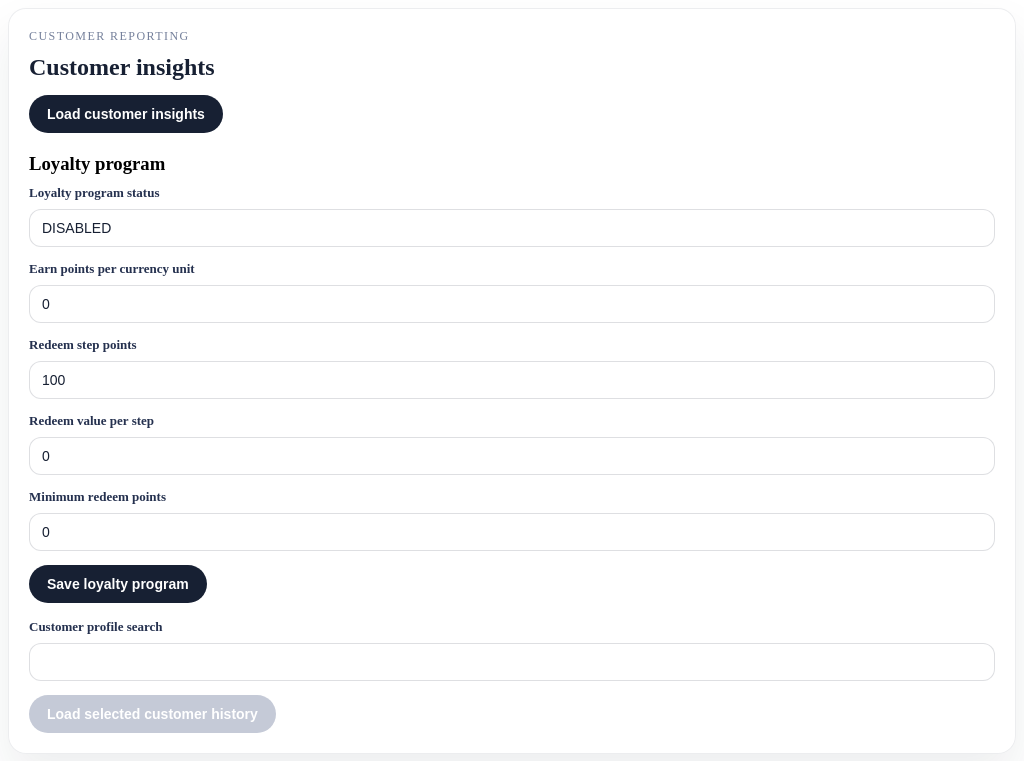
Scenario: owner customer insights section › assigns a default price tier to the selected customer profile
Click the button "Load customer insights" at (126, 114), box [29,95,223,133]
(page scrolled)
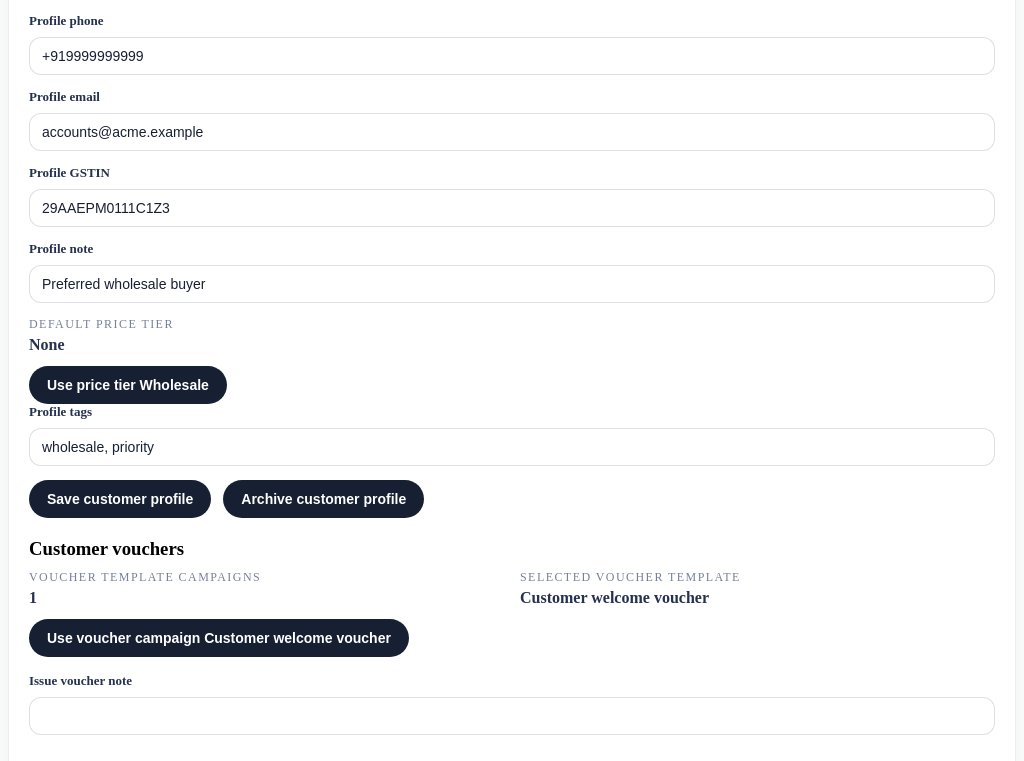
Click the button "Use price tier Wholesale" at (128, 385), box [29,366,227,404]
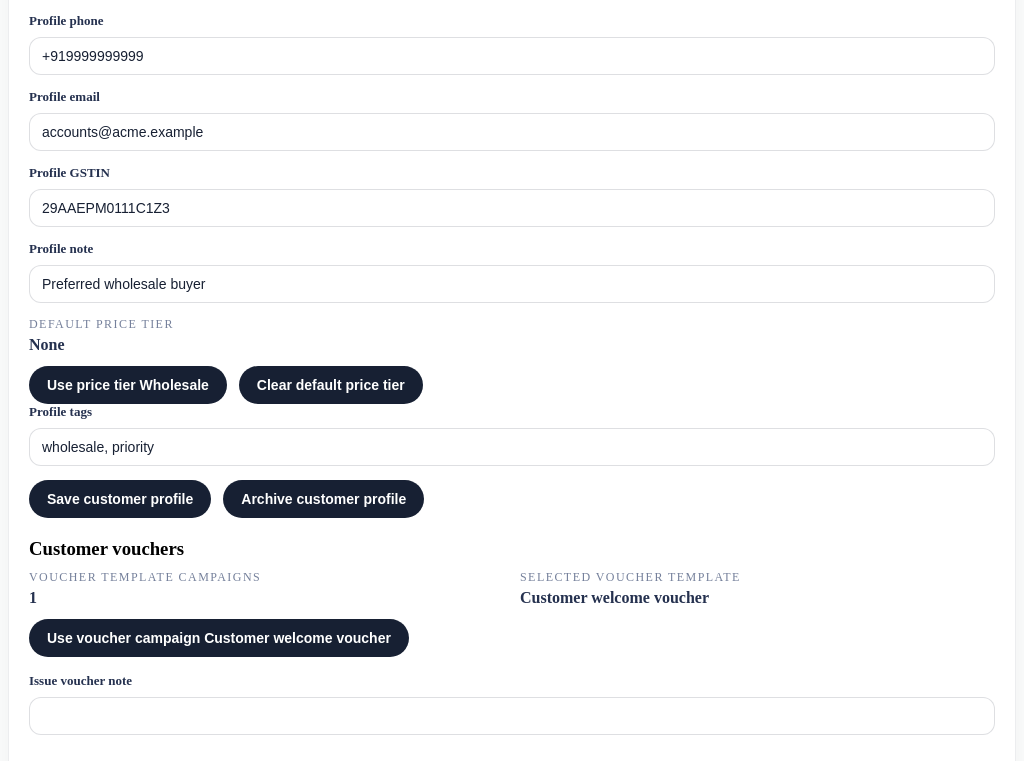
Click the button "Save customer profile" at (120, 499), box [29,480,211,518]
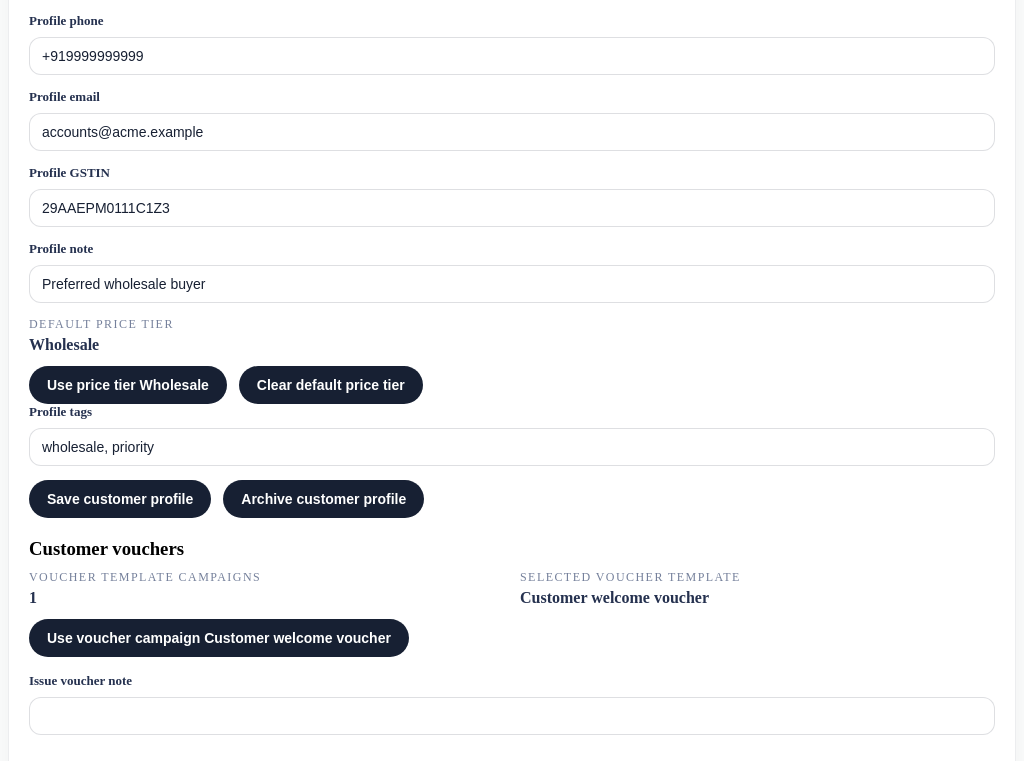
Now the text "Wholesale" is shown, box [29,336,99,353]
